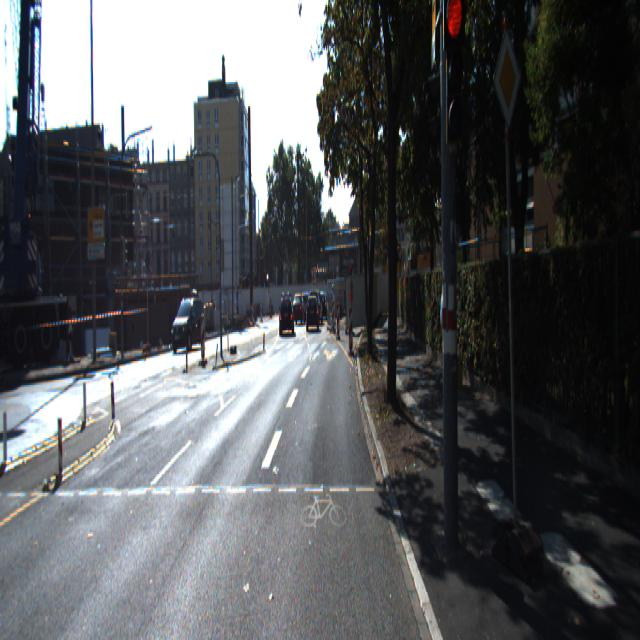Car: (170, 291, 206, 349), (278, 292, 293, 333), (305, 290, 318, 329), (292, 291, 305, 323)
